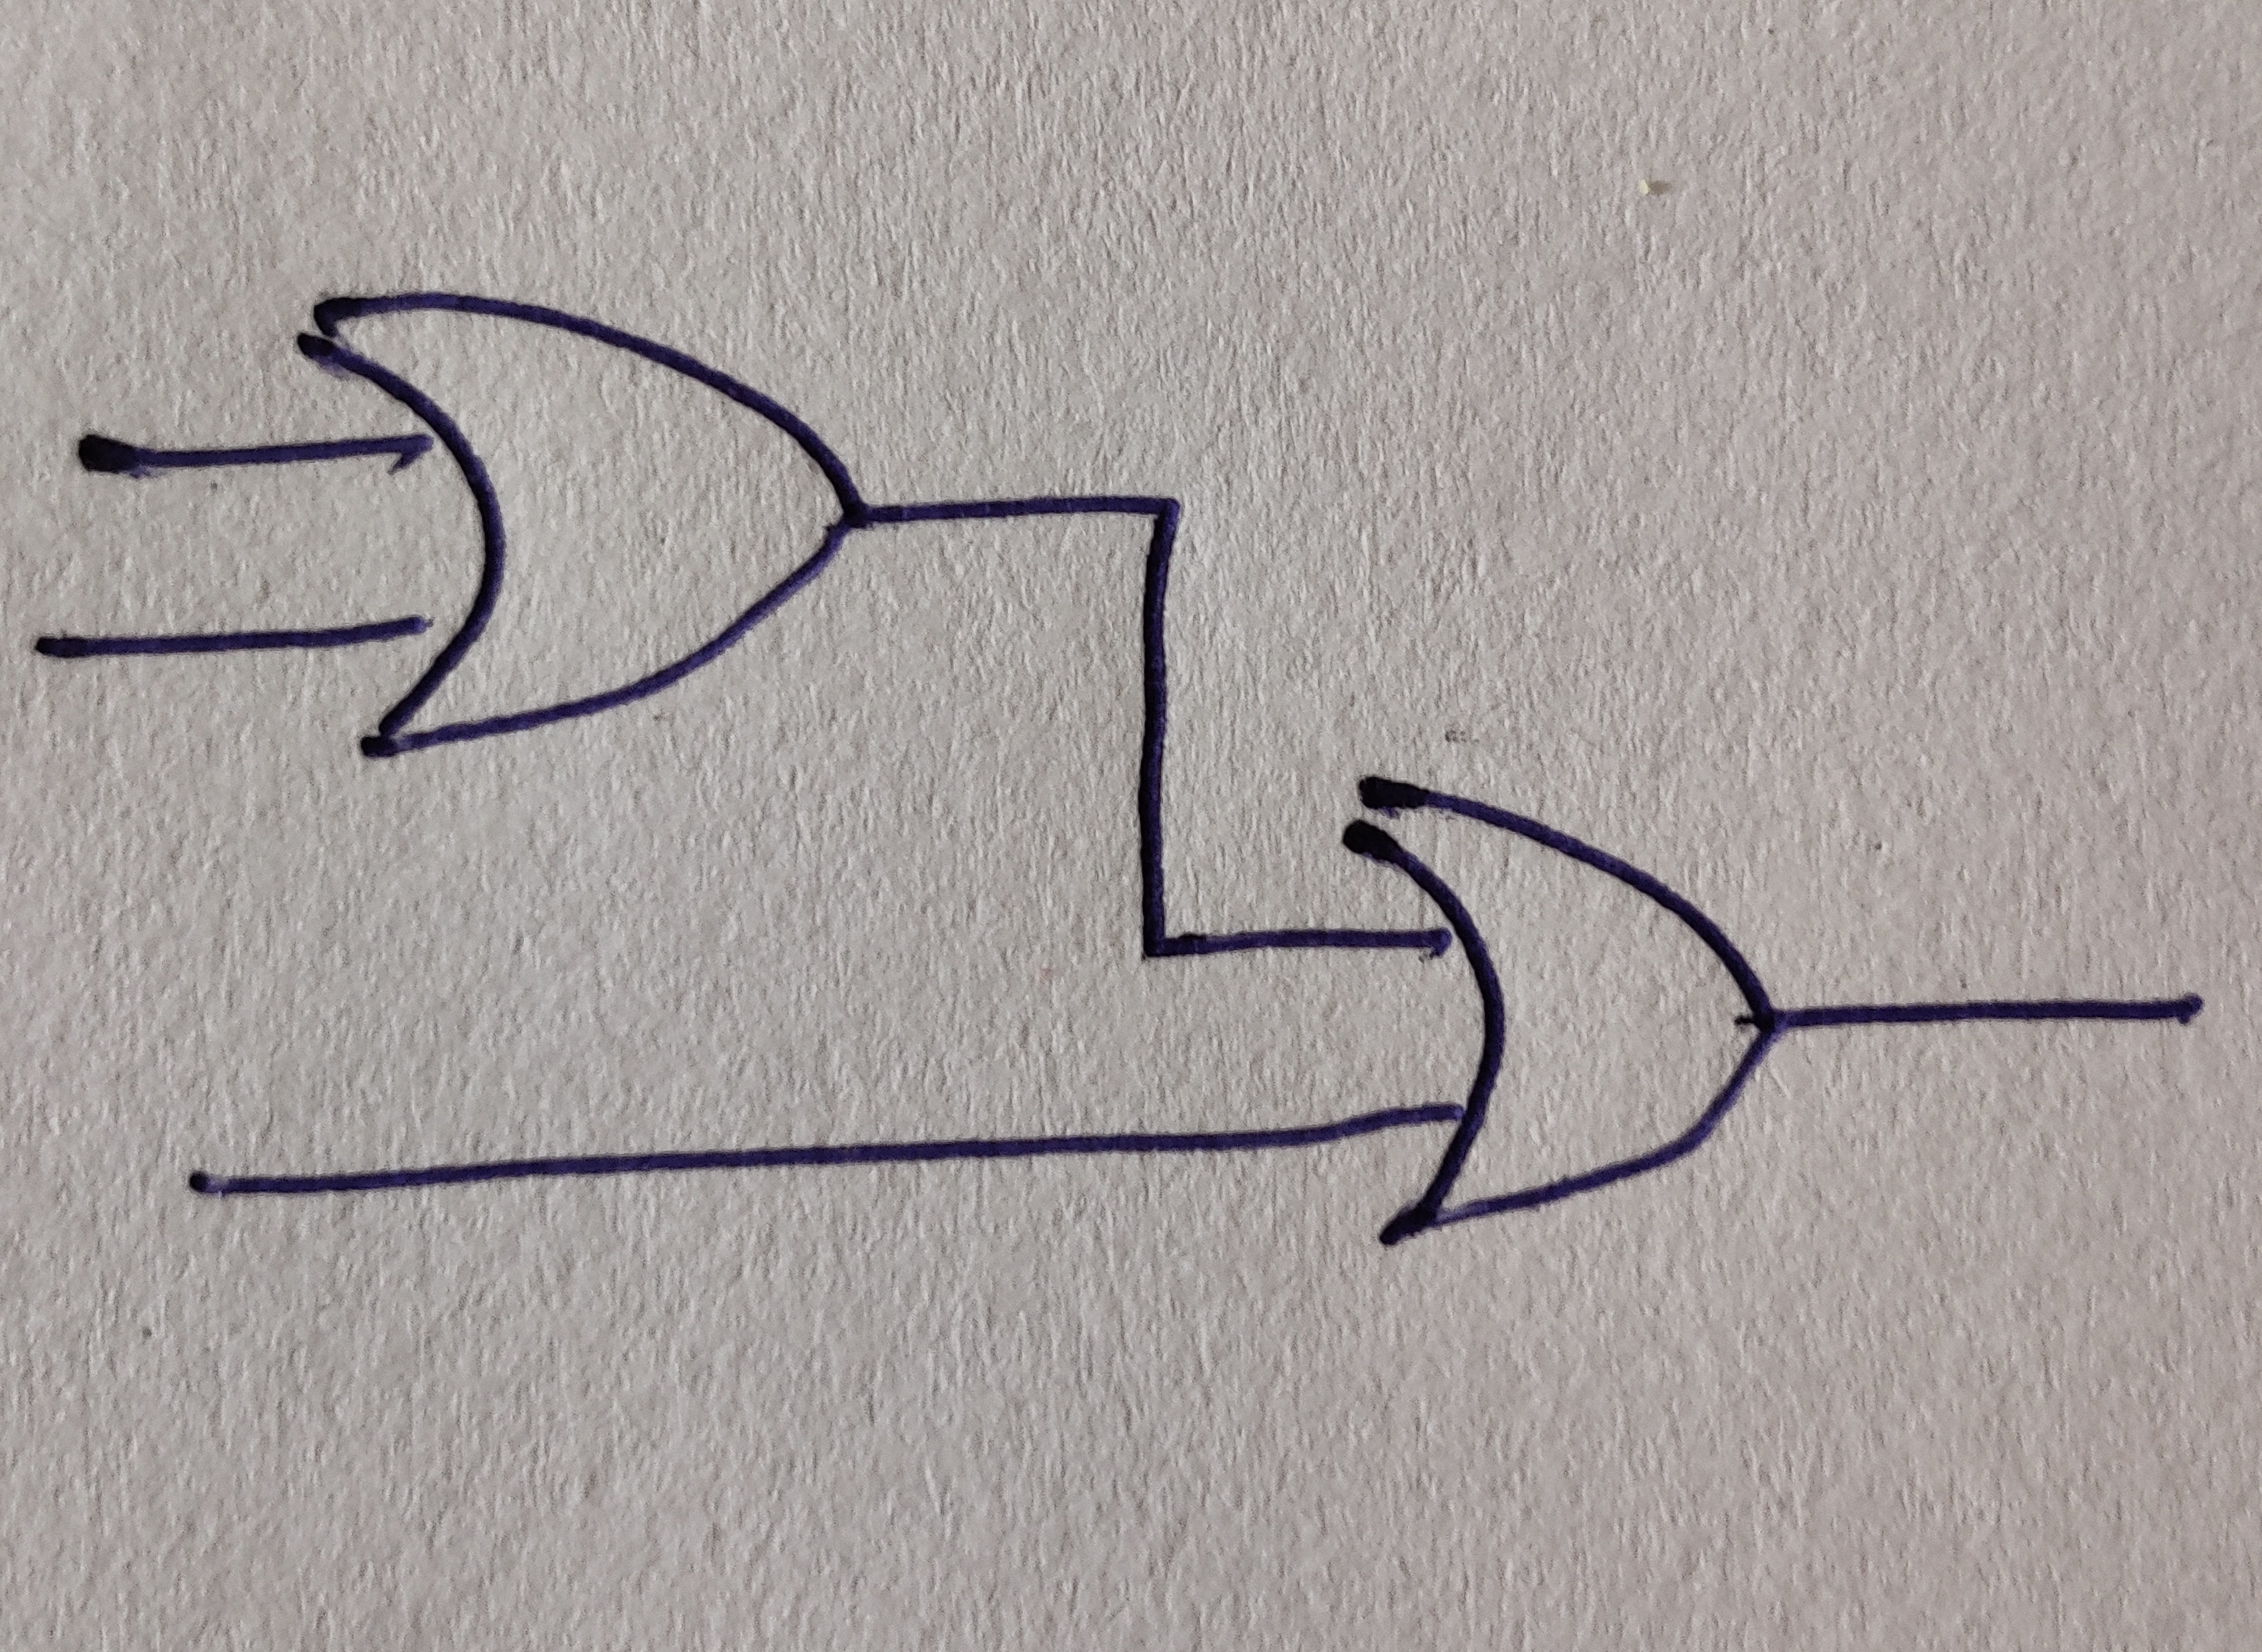or: (295, 295, 864, 760), (1342, 776, 1781, 1250)
